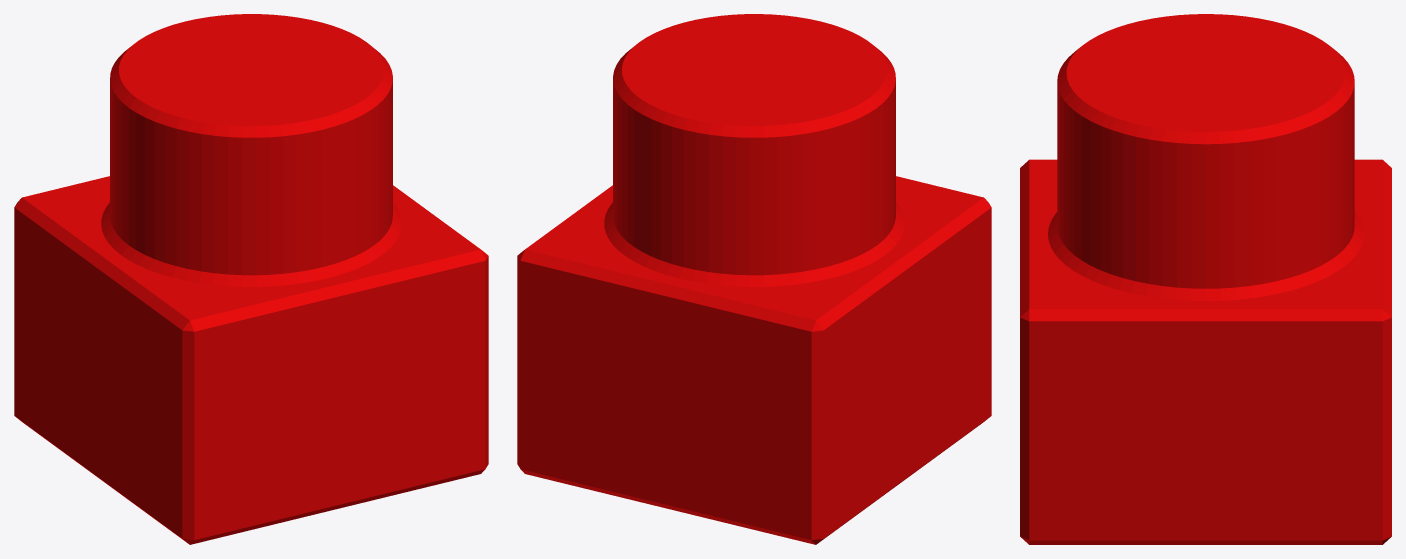
The picture shows the model from 3 angles, left to right: view 1: azimuth 30°, elevation 25°; view 2: azimuth 150°, elevation 25°; view 3: azimuth 270°, elevation 25°; orthographic projection. The views are drawn at different scales.
Parts seen in each view (by area): view 1: Cube.001; view 2: Cube.001; view 3: Cube.001.
Boxes of the visible parts, left/top/right/bottom form: Cube.001: left=14, top=14, right=488, bottom=544; Cube.001: left=517, top=14, right=991, bottom=544; Cube.001: left=1020, top=14, right=1391, bottom=544.
Size of the model in its own units: 1 by 1.18 by 1.
